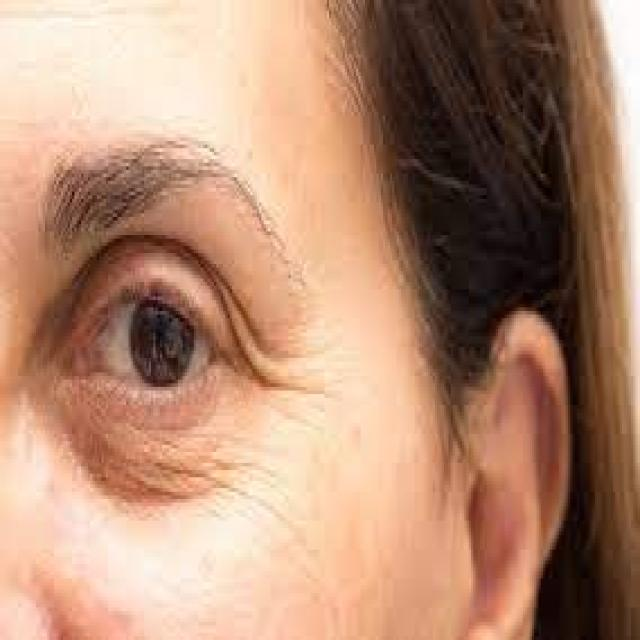Eyes-iris: (124, 284, 202, 390)
